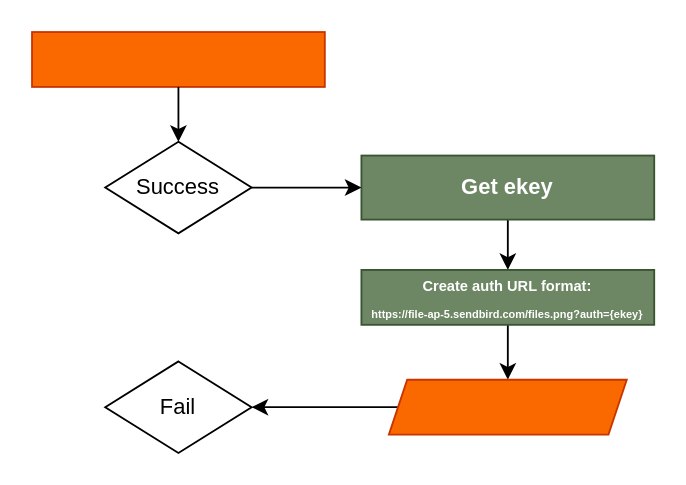
The diagram is 686 pixels wide and 485 high, and some of its shapes have lost their labels. Here are the shapes that lost their labels. From the top down, the centre of each, then its label:
point 177,58: Senbird instance init
point 507,406: Download via URL
